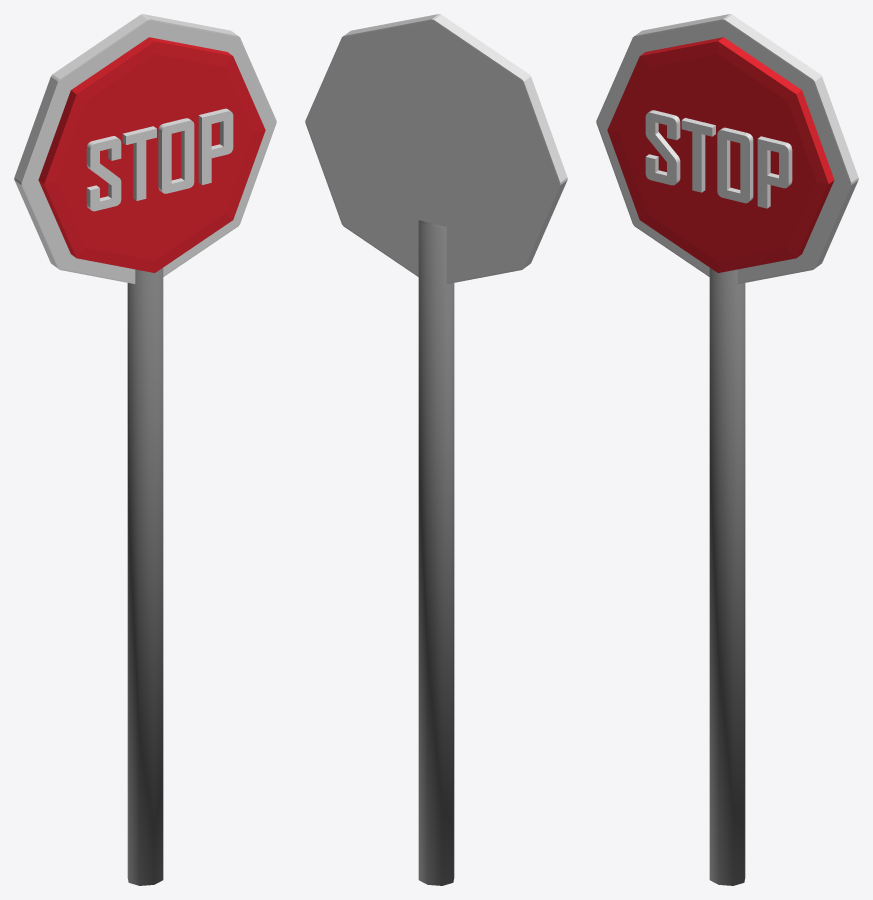
Rendered from StopSign.fbx.
The picture shows the model from 3 angles, left to right: view 1: azimuth 30°, elevation 25°; view 2: azimuth 150°, elevation 25°; view 3: azimuth 330°, elevation 25°; orthographic projection.
Parts seen in each view (by area): view 1: StopSign; view 2: StopSign; view 3: StopSign.
Boxes of the visible parts, <box> form: StopSign: <box>14,14,276,885</box>; StopSign: <box>305,14,567,885</box>; StopSign: <box>596,14,858,885</box>.
Size of the model in its own units: 252 by 815 by 37.38.
